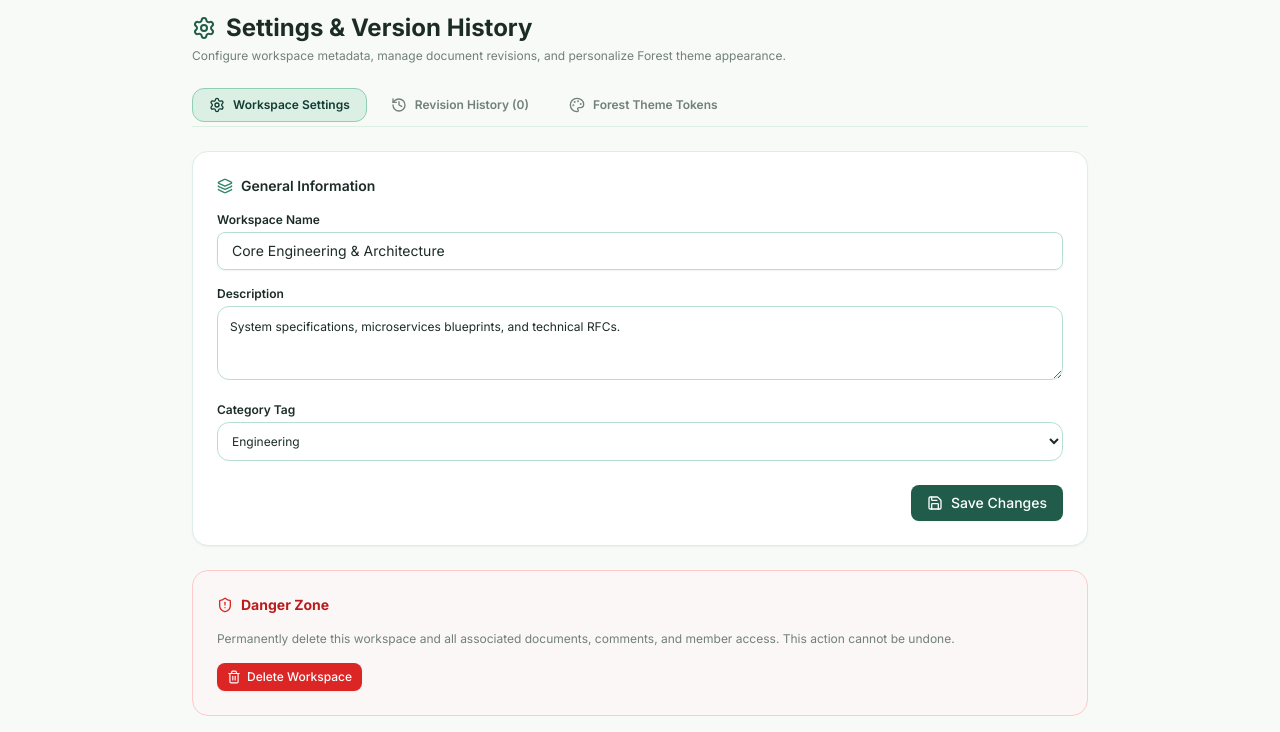
Test: Phase 6 Frontend: Version History, Notifications & Settings › VersionHistorySettingsPage Component › renders workspace settings and appearance tabs
Expected: the heading "Settings & Version History" is shown, [192,13,532,42]
Expected: the field showing "Core Engineering & Architecture" is shown, [217,232,1063,270]
Switch to Forest Theme Tokens tab
What coordinates should you click on to do the following:
click the button "Forest Theme Tokens"
I would click on:
 (643, 105)
Its box is [553,89,734,121].
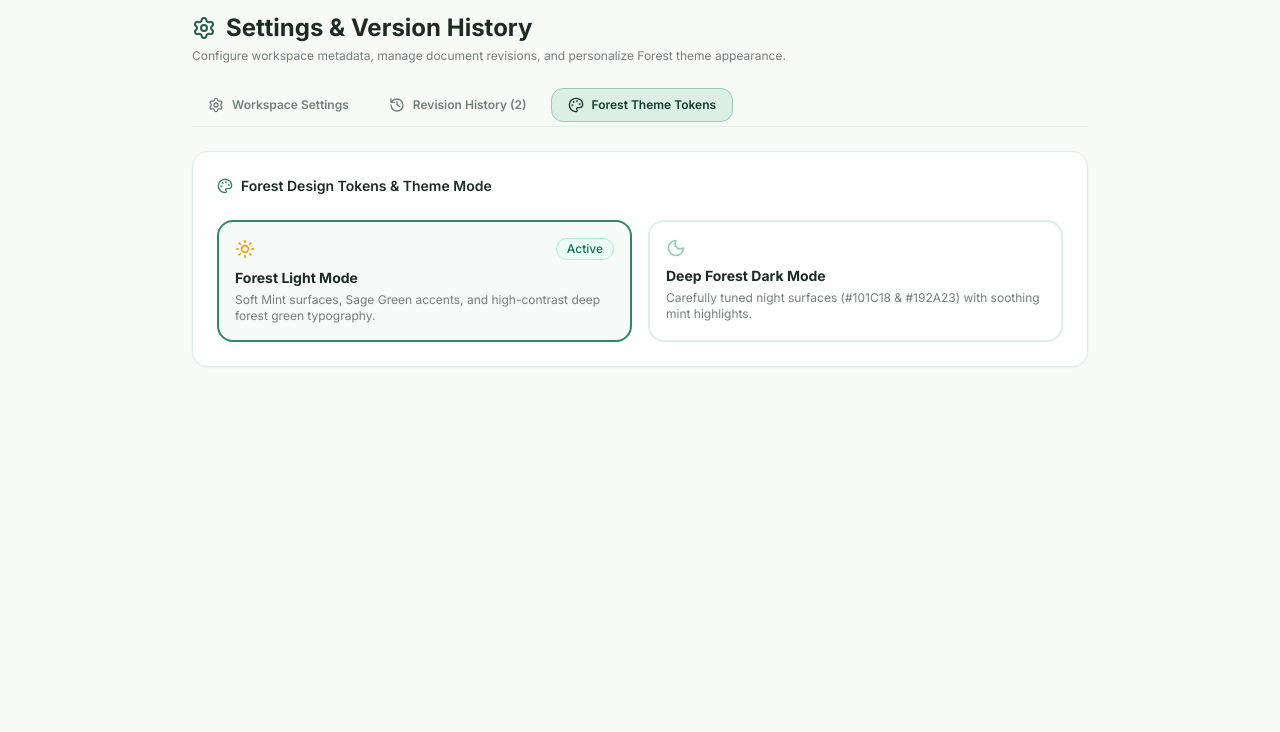
Now the heading "Forest Light Mode" is shown, box [235,269,358,286]
Now the heading "Deep Forest Dark Mode" is shown, box [666,267,826,284]
